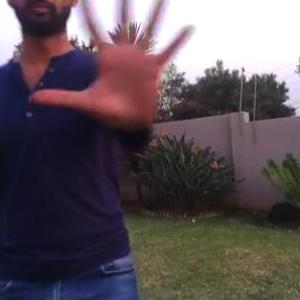follow_hand: (28, 0, 200, 135)
